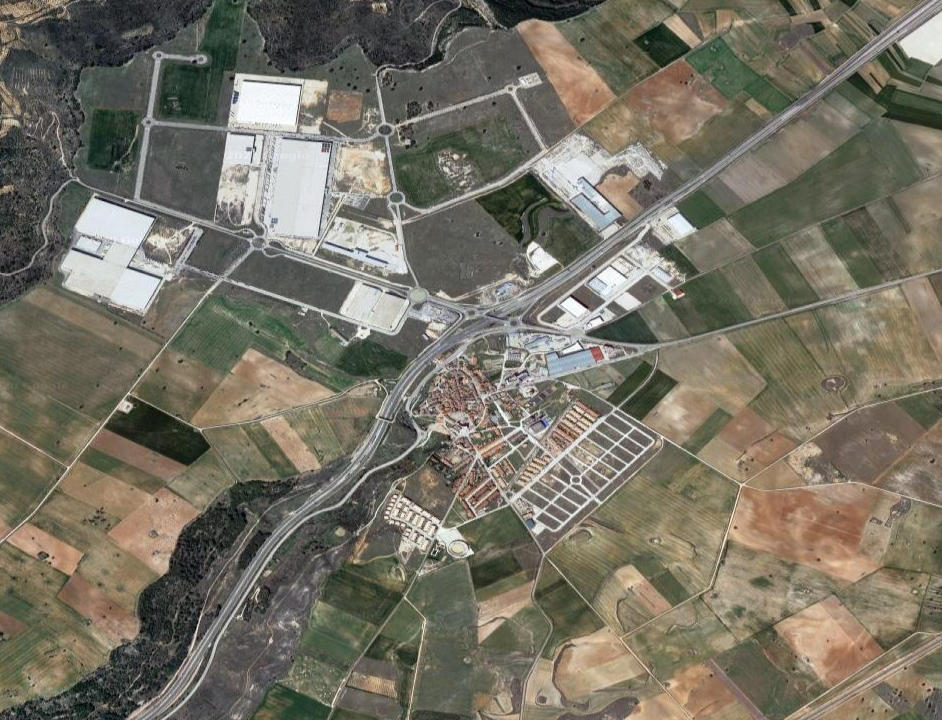industrial: (47, 58, 656, 326)
motorway: (122, 477, 351, 720), (702, 1, 942, 204), (84, 181, 409, 306), (495, 164, 710, 340), (329, 292, 497, 487)
